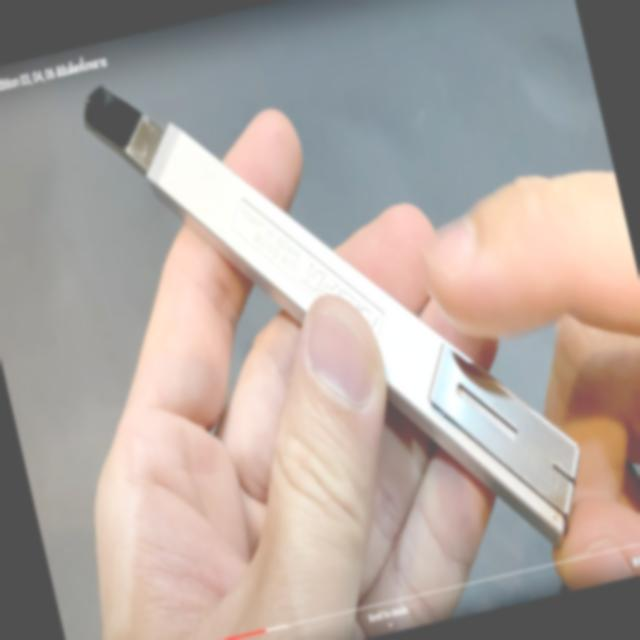cutter: (76, 69, 640, 640)
